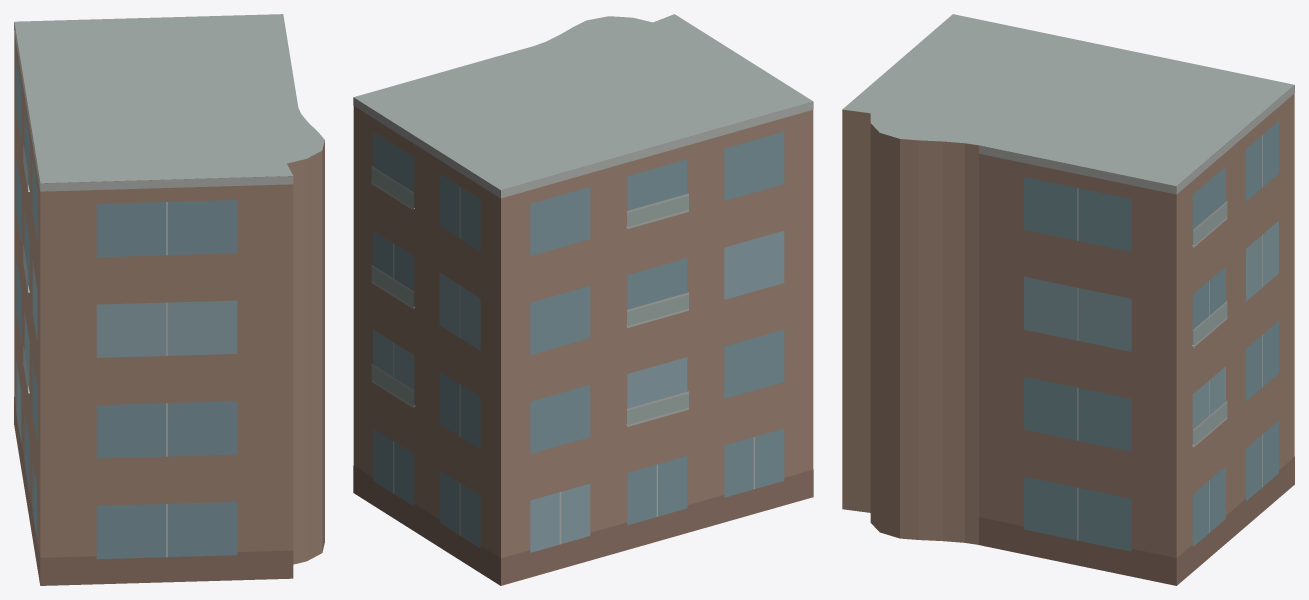
File: survey-upis-32728728.glb
3 views of the same model, side by side, from view 1: azimuth 30°, elevation 25°; view 2: azimuth 150°, elevation 25°; view 3: azimuth 270°, elevation 25° (orthographic).
Visible parts, largest first — view 1: survey-upis-32728728.tmp; view 2: survey-upis-32728728.tmp; view 3: survey-upis-32728728.tmp.
Part boxes in pixels (x1,y1,x2,y2): survey-upis-32728728.tmp: [14, 14, 324, 585]; survey-upis-32728728.tmp: [353, 14, 813, 585]; survey-upis-32728728.tmp: [842, 14, 1294, 585].
Size of the model in its own units: 10.82 by 11.7 by 12.02.
